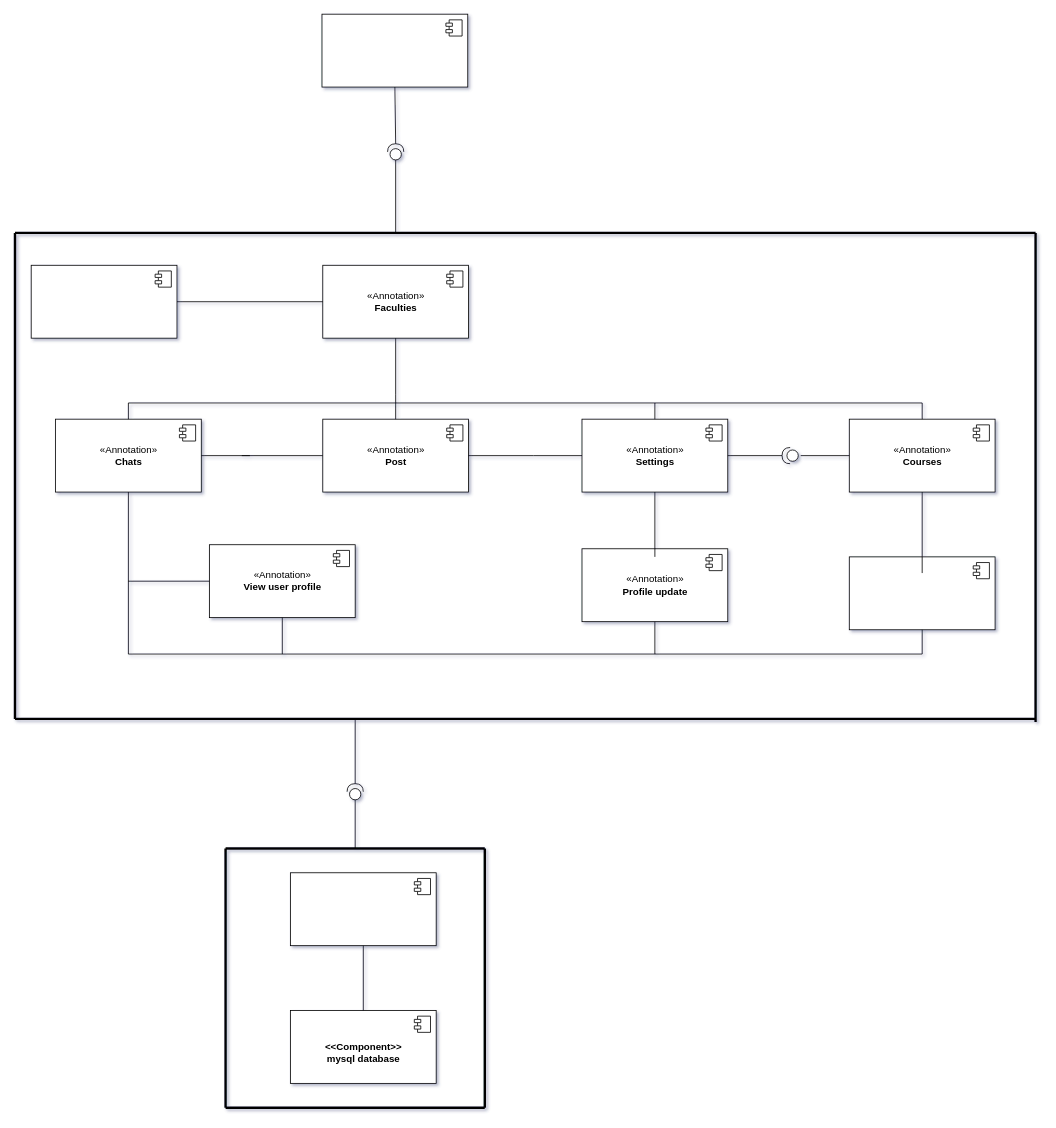
Some shapes in this 1056 by 1128 pixel diagram are drawn without their labels. The shapes that lost their labels are listed below. From the top down, each one's centre as x and y in pixels, then its label:
At point 394,50: "<< Component >> Android interface".
At point 103,301: "«Annotation» Tutor/student login".
At point 921,593: "«Annotation» Newsfeed".
At point 363,909: "<< Component >> php".
